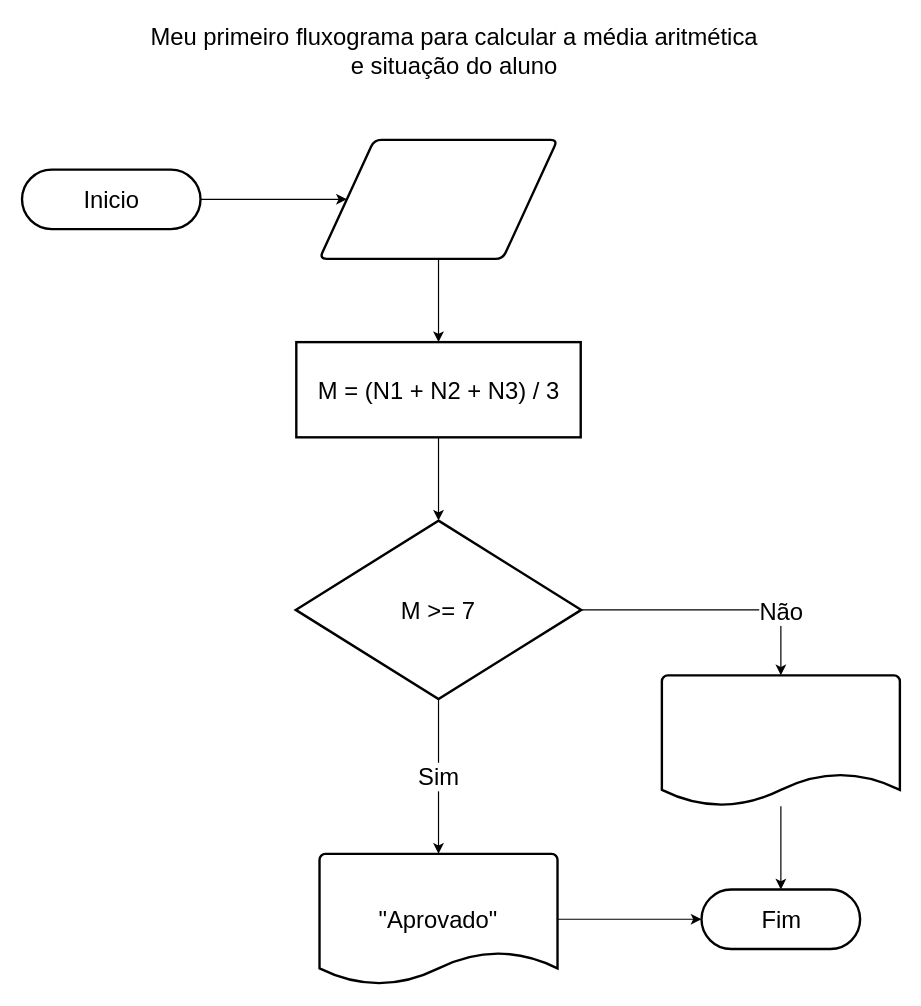
This 921x1006 diagram has some shape labels left out. Here are the shapes that lost their labels. From the top down, the centre of each, then its label:
[438,198]: N1, N2, N3
[780,740]: "Reprovado"
